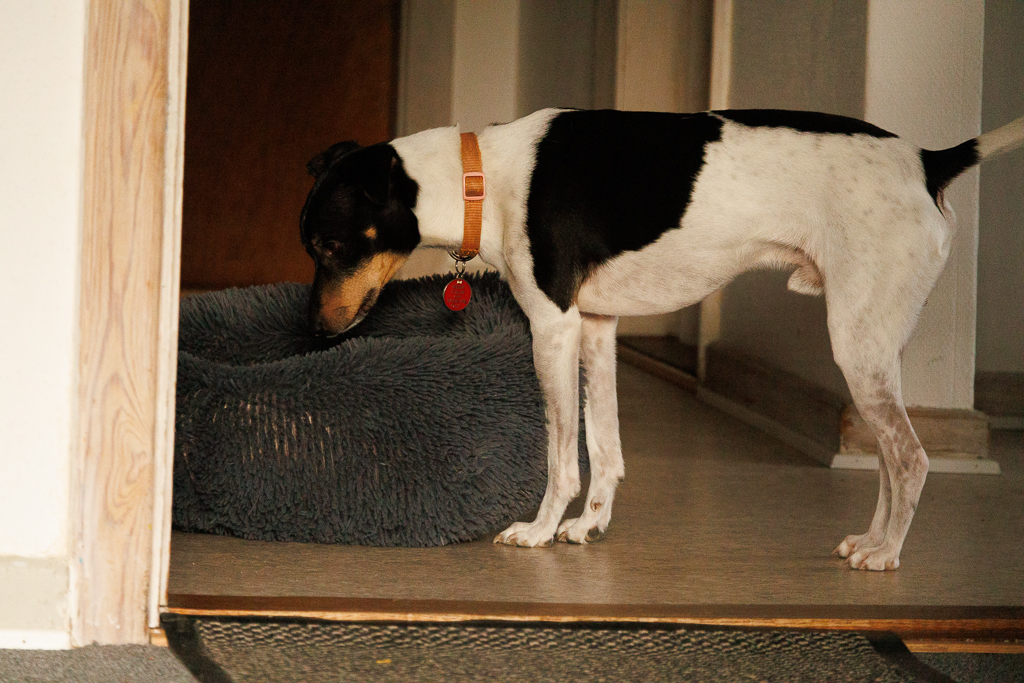Dog: (291, 100, 1024, 573)
